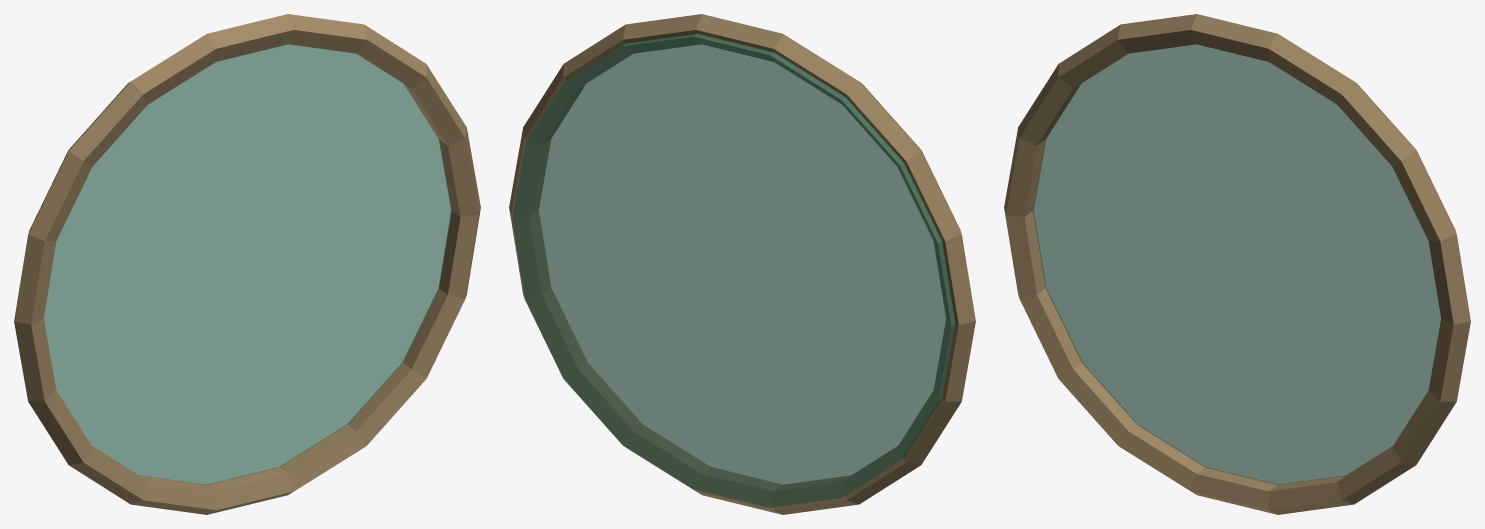
Rendered from swamp_murky_pool.glb.
3 views of the same model, side by side, from view 1: azimuth 30°, elevation 25°; view 2: azimuth 150°, elevation 25°; view 3: azimuth 330°, elevation 25° (orthographic).
Parts seen in each view (by area): view 1: pool, mud_rim; view 2: pool, mud_rim; view 3: pool, mud_rim.
Boxes of the visible parts, left/top/right/bottom form: pool: left=44, top=44, right=451, bottom=484; mud_rim: left=14, top=14, right=480, bottom=514; pool: left=512, top=34, right=955, bottom=507; mud_rim: left=509, top=14, right=975, bottom=514; pool: left=1033, top=44, right=1440, bottom=484; mud_rim: left=1004, top=14, right=1470, bottom=514.
Size of the model in its own units: 2.02 by 1.99 by 0.1371.
